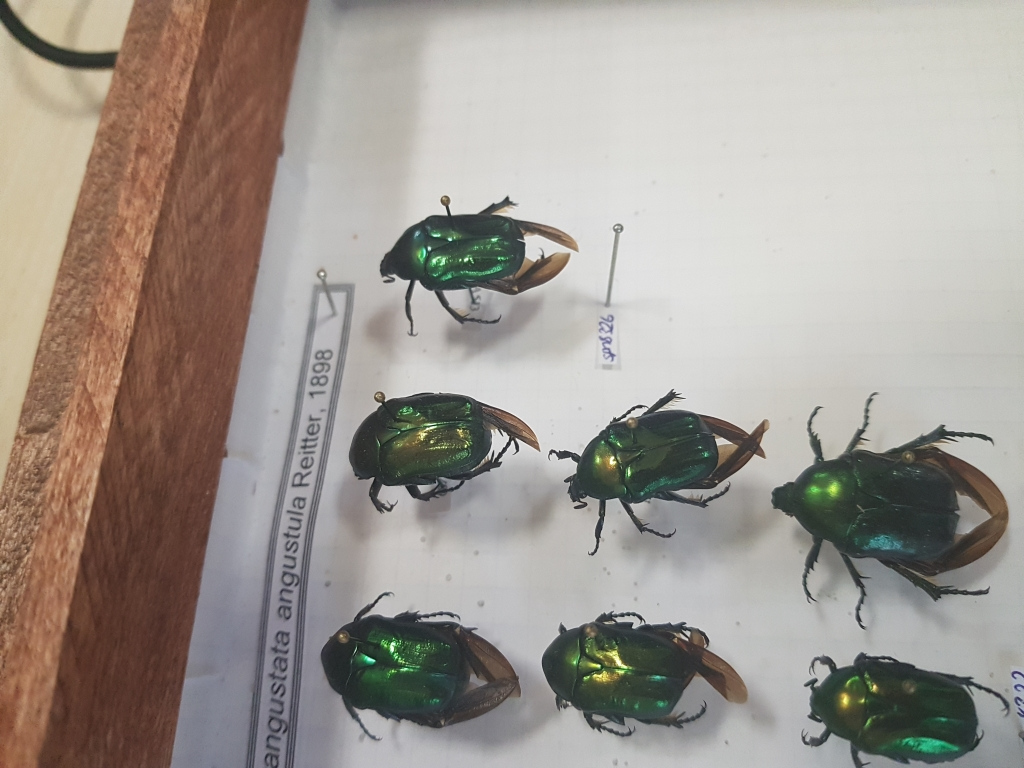Protaetia_angustata_angustata: (772, 386, 1019, 626), (548, 380, 774, 544), (308, 590, 528, 745), (534, 601, 761, 750), (374, 195, 585, 345), (780, 639, 1024, 765), (336, 381, 541, 515)
